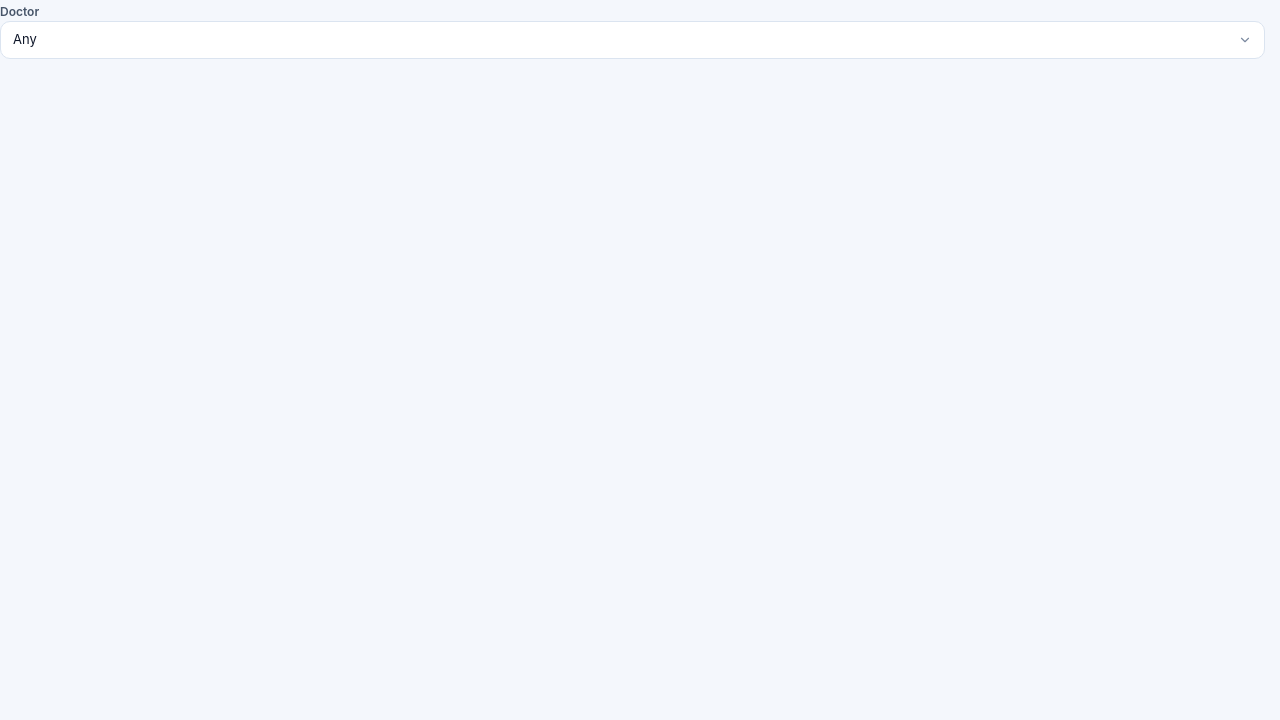
Test: tells same-named doctors apart with a detail line
Click the dropdown named "Doctor".
click(25, 39)  # box [0, 21, 1265, 59]
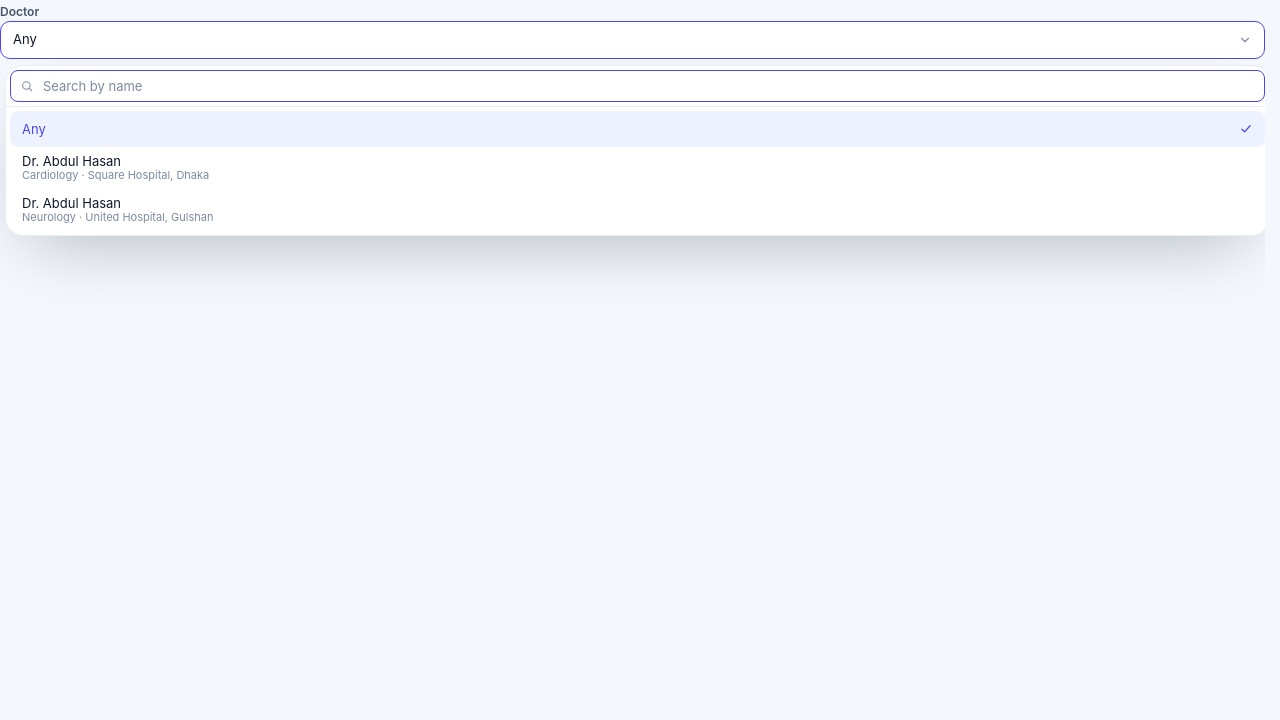
Result: the options read "Any", "Dr. Abdul HasanCardiology · Square Hospital, Dhaka", "Dr. Abdul HasanNeurology · United Hospital, Gulshan", in this order at [10, 111, 1265, 147]; [22, 153, 209, 182]; [22, 195, 214, 224]
